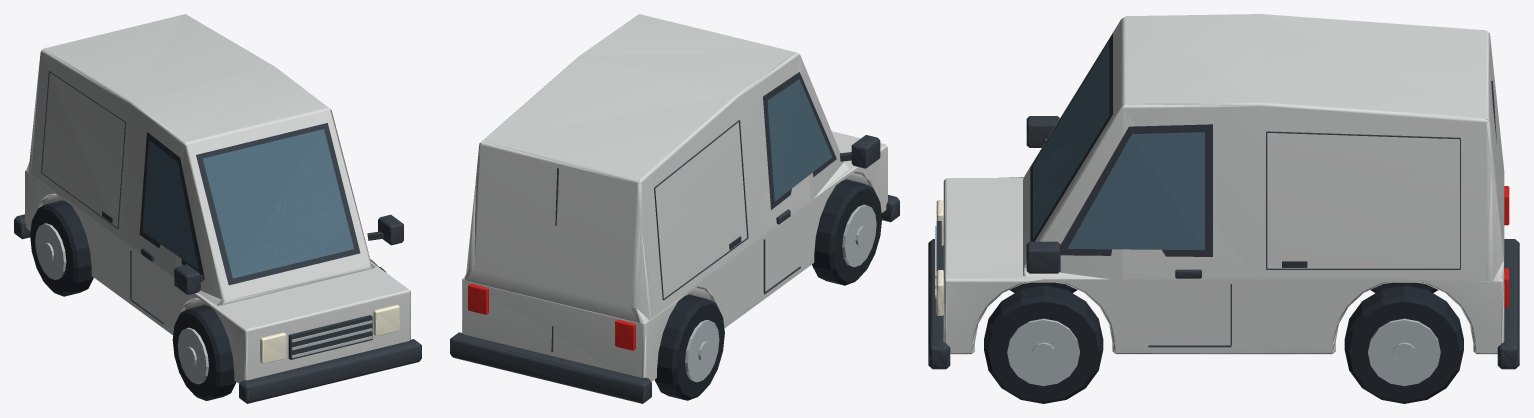
Rendered from White_Van.fbx.
The picture shows the model from 3 angles, left to right: view 1: azimuth 30°, elevation 25°; view 2: azimuth 150°, elevation 25°; view 3: azimuth 270°, elevation 25°; orthographic projection. The views are drawn at different scales.
Visible parts, largest first — view 1: Asset_White_Van; view 2: Asset_White_Van; view 3: Asset_White_Van.
Boxes of the visible parts, x1,y1,x2,y2 form: Asset_White_Van: (14, 14, 421, 403); Asset_White_Van: (450, 14, 899, 403); Asset_White_Van: (928, 14, 1519, 403).
Bounding box in the file's own units: 2.62 × 2.62 × 4.85.
